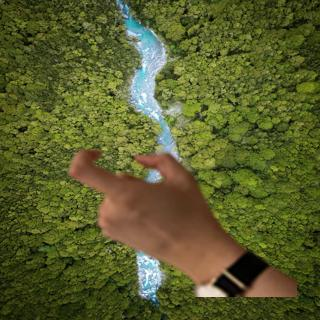HATE: (64, 144, 219, 270)
